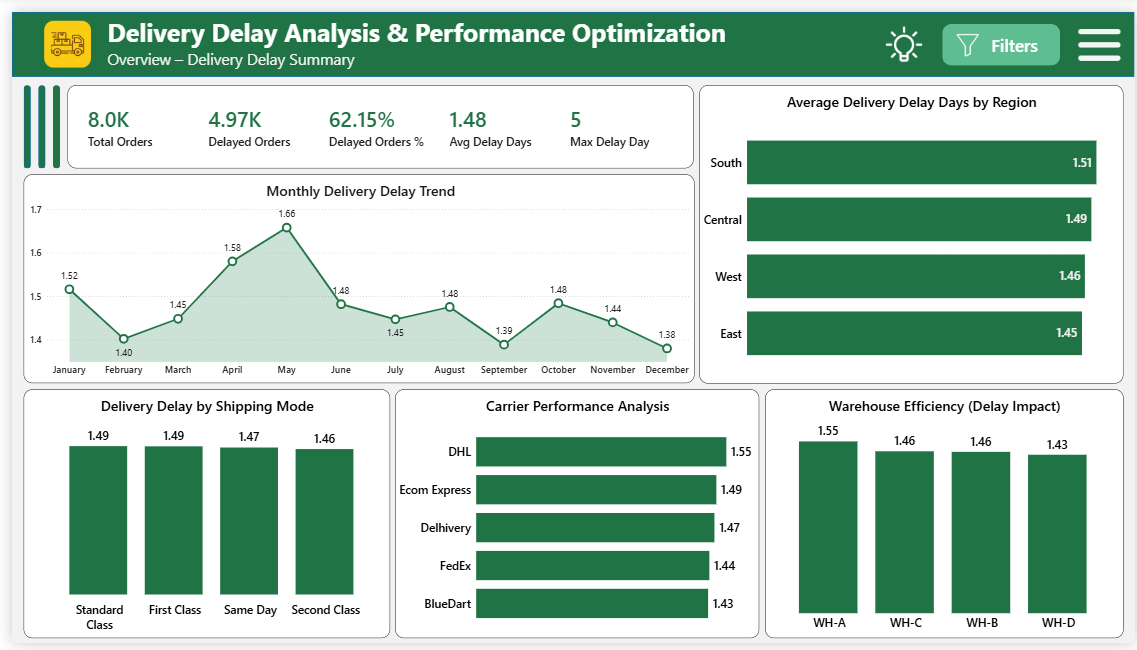

The dashboard page shown, as its layout file describes it:
{"tool":"powerbi","page":{"name":"Overview – Delivery Delay Summary","canvas":[1920,1080],"ordinal":0},"visuals":[{"type":"shape","title":"Title Bg Box","box":[0,0,1920,110.9],"z":0},{"type":"shape","box":[1590,20,202,72],"z":0,"group":"g1"},{"type":"shape","box":[20,125,12.1,142.5],"z":0,"group":"g2"},{"type":"textbox","title":"Title Box","box":[150,0,1172.5,110],"z":1000},{"type":"image","box":[1614,38,38,38],"z":1000,"group":"g1"},{"type":"shape","box":[46.2,125,12.1,142.5],"z":1000,"group":"g2"},{"type":"group","id":"g1","title":"Filter Btn","box":[1590,20,200,72.5],"z":2000},{"type":"shape","box":[1670,34,107,44],"z":2000,"group":"g1"},{"type":"shape","box":[70.4,125,12.1,142.5],"z":2000,"group":"g2"},{"type":"image","title":"Logo ","box":[56,16,80,80],"z":3000},{"type":"group","id":"g2","title":"KPI near Lines","box":[20,125,62.5,142.5],"z":4000},{"type":"cardVisual","fields":{"Data":["Measures_.Total Orders","Measures_.Delayed Orders","Measures_.Delay %","Measures_.Avg Delay Days","Measures_.Max Delay Day"]},"box":[95,125,1070,142.5],"z":5000},{"type":"barChart","title":"Average Delivery Delay Days by Region","fields":{"Category":["delivery_performance_CLEANED_dataset.Region"],"Y":["Avg(delivery_performance_CLEANED_dataset.Delay Days)"]},"box":[1175,125,725,510],"z":6000},{"type":"clusteredColumnChart","title":"Delivery Delay by Shipping Mode","fields":{"Category":["delivery_performance_CLEANED_dataset.Ship Mode"],"Y":["Avg(delivery_performance_CLEANED_dataset.Delay Days)"]},"box":[20,645,626,425],"z":7000},{"type":"clusteredColumnChart","title":"Warehouse Efficiency (Delay Impact)","fields":{"Category":["delivery_performance_CLEANED_dataset.Warehouse Location"],"Y":["Avg(delivery_performance_CLEANED_dataset.Delay Days)"]},"box":[1287.5,645,612.5,425],"z":8000},{"type":"barChart","title":"Carrier Performance Analysis","fields":{"Category":["delivery_performance_CLEANED_dataset.Carrier"],"Y":["Avg(delivery_performance_CLEANED_dataset.Delay Days)"]},"box":[655,645,622.5,425],"z":9000},{"type":"lineChart","title":"Monthly Delivery Delay Trend","fields":{"Category":["delivery_performance_CLEANED_dataset.Order Date.Variation.Date Hierarchy.Month"],"Y":["Avg(delivery_performance_CLEANED_dataset.Delay Days)"]},"box":[20,277,1147,357],"z":11000},{"type":"image","title":"Menu Bar Icon","box":[1822,20,72.5,72.5],"z":12000},{"type":"image","title":"Insights Page Icon","box":[1490,20,70,70],"z":13000}]}

Visuals, with their boxes in screenshot pixels (x1, y1, x2, y2), scaled from the page's 1920x1080 canvas onto the 1137x650 screenshot:
"Title Bg Box" shape: x1=0, y1=0, x2=1136, y2=67
shape: x1=942, y1=12, x2=1061, y2=55
shape: x1=12, y1=75, x2=19, y2=161
"Title Box" textbox: x1=89, y1=0, x2=783, y2=66
image: x1=956, y1=23, x2=978, y2=46
shape: x1=27, y1=75, x2=35, y2=161
"Filter Btn" group: x1=942, y1=12, x2=1060, y2=56
shape: x1=989, y1=20, x2=1052, y2=47
shape: x1=42, y1=75, x2=49, y2=161
"Logo " image: x1=33, y1=10, x2=81, y2=58
"KPI near Lines" group: x1=12, y1=75, x2=49, y2=161
cardVisual - Measures_.Total Orders x Measures_.Delayed Orders: x1=56, y1=75, x2=690, y2=161
"Average Delivery Delay Days by Region" barChart: x1=696, y1=75, x2=1125, y2=382
"Delivery Delay by Shipping Mode" clusteredColumnChart: x1=12, y1=388, x2=383, y2=644
"Warehouse Efficiency (Delay Impact)" clusteredColumnChart: x1=762, y1=388, x2=1125, y2=644
"Carrier Performance Analysis" barChart: x1=388, y1=388, x2=757, y2=644
"Monthly Delivery Delay Trend" lineChart: x1=12, y1=167, x2=691, y2=382
"Menu Bar Icon" image: x1=1079, y1=12, x2=1122, y2=56
"Insights Page Icon" image: x1=882, y1=12, x2=924, y2=54
